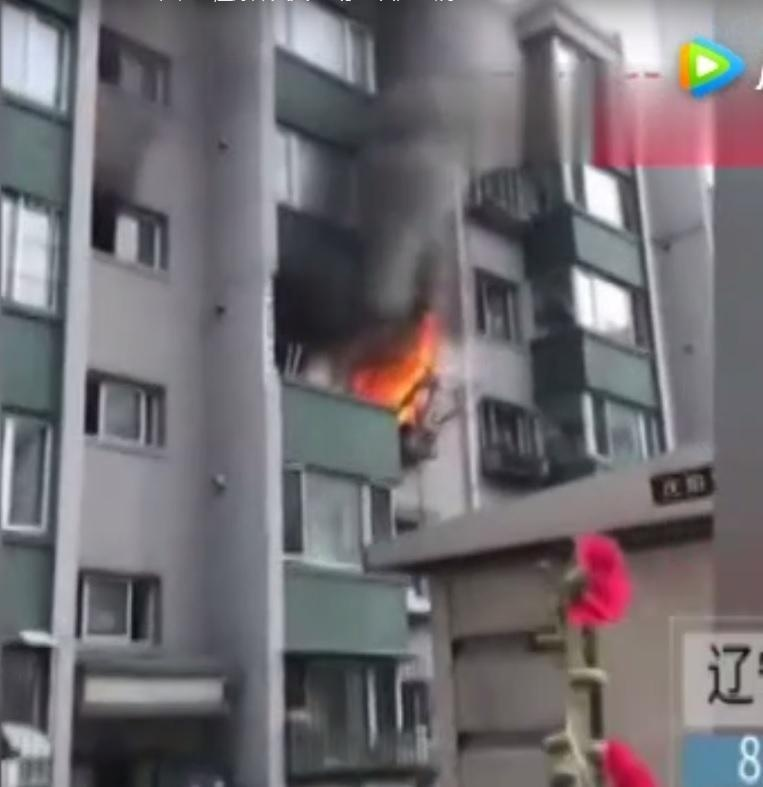fire: (348, 314, 446, 423)
